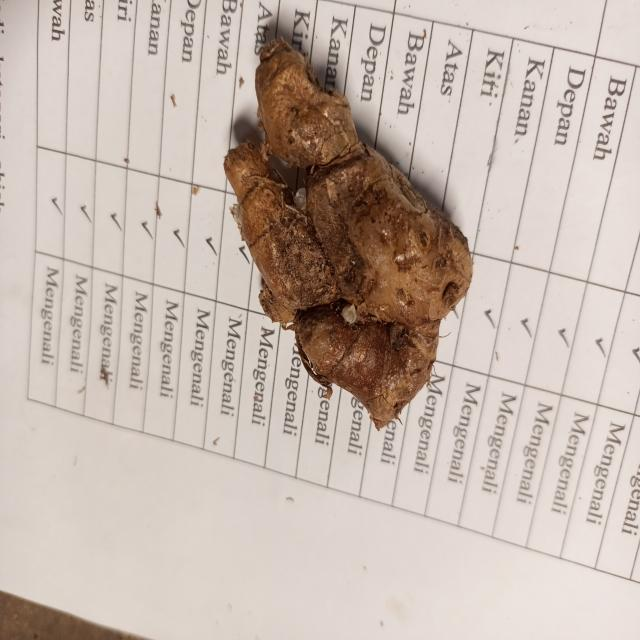ginger: (232, 39, 468, 424)
